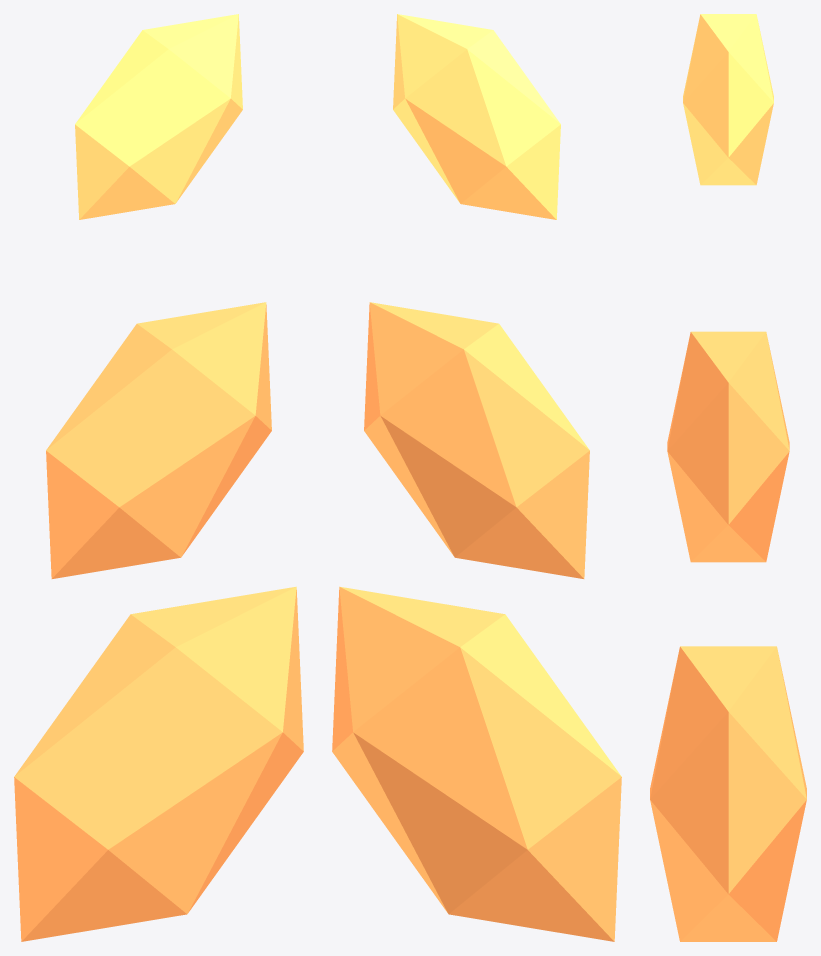
Rendered from ember_beacon.glb.
3 views of the same model, side by side, from view 1: azimuth 30°, elevation 25°; view 2: azimuth 150°, elevation 25°; view 3: azimuth 270°, elevation 25° (orthographic). The views are drawn at different scales.
Parts seen in each view (by area): view 1: BeaconDiamond_0, BeaconDiamond_1, BeaconDiamond_2; view 2: BeaconDiamond_0, BeaconDiamond_1, BeaconDiamond_2; view 3: BeaconDiamond_0, BeaconDiamond_1, BeaconDiamond_2.
Boxes of the visible parts, bbox=[...] form: BeaconDiamond_0: bbox=[14, 586, 303, 941]; BeaconDiamond_1: bbox=[46, 302, 271, 578]; BeaconDiamond_2: bbox=[75, 14, 242, 219]; BeaconDiamond_0: bbox=[332, 586, 621, 941]; BeaconDiamond_1: bbox=[364, 302, 589, 578]; BeaconDiamond_2: bbox=[393, 14, 560, 219]; BeaconDiamond_0: bbox=[650, 646, 806, 941]; BeaconDiamond_1: bbox=[667, 331, 789, 562]; BeaconDiamond_2: bbox=[683, 14, 773, 185].
Bounding box in the file's own units: 2.53 × 7.3 × 1.11.
